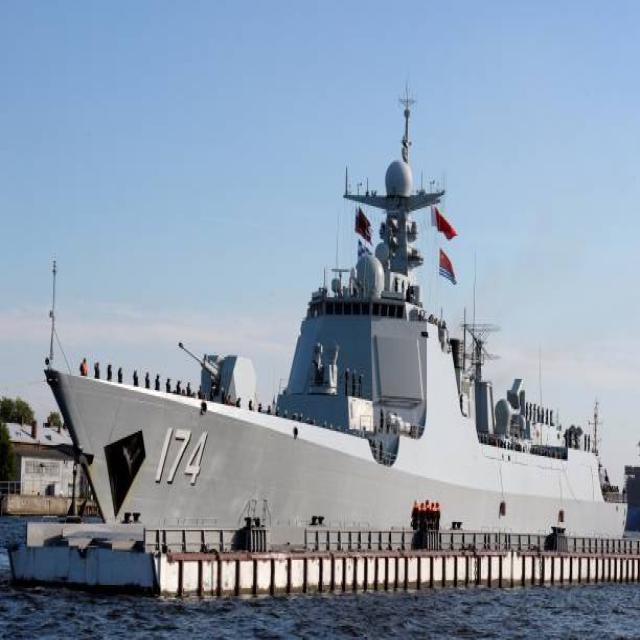Military: (46, 101, 627, 541)
